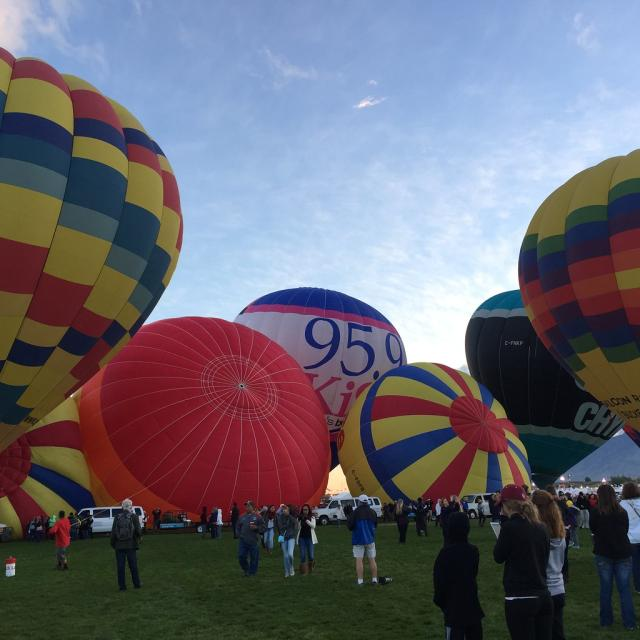balloon: (1, 43, 184, 479), (83, 308, 336, 564), (231, 286, 412, 494), (342, 346, 542, 534), (465, 276, 635, 495), (519, 149, 640, 449)
